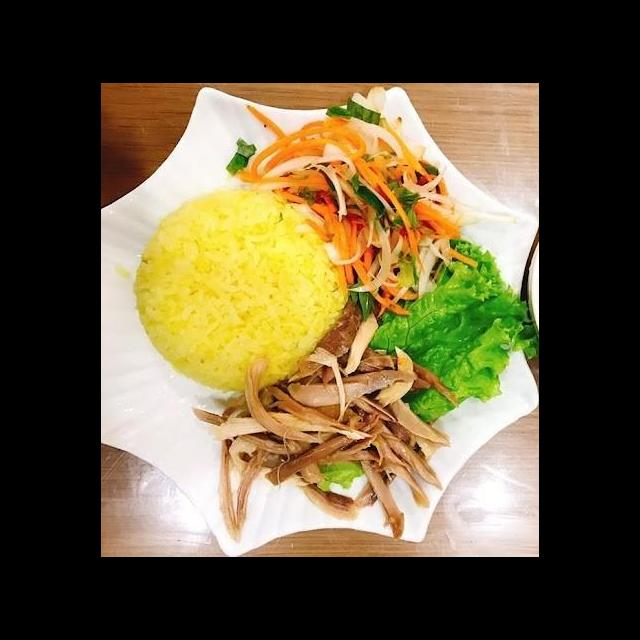com: (129, 185, 350, 398)
com ga: (101, 131, 535, 557)
rau ram: (349, 169, 429, 235)
thit ga: (190, 294, 462, 546)
